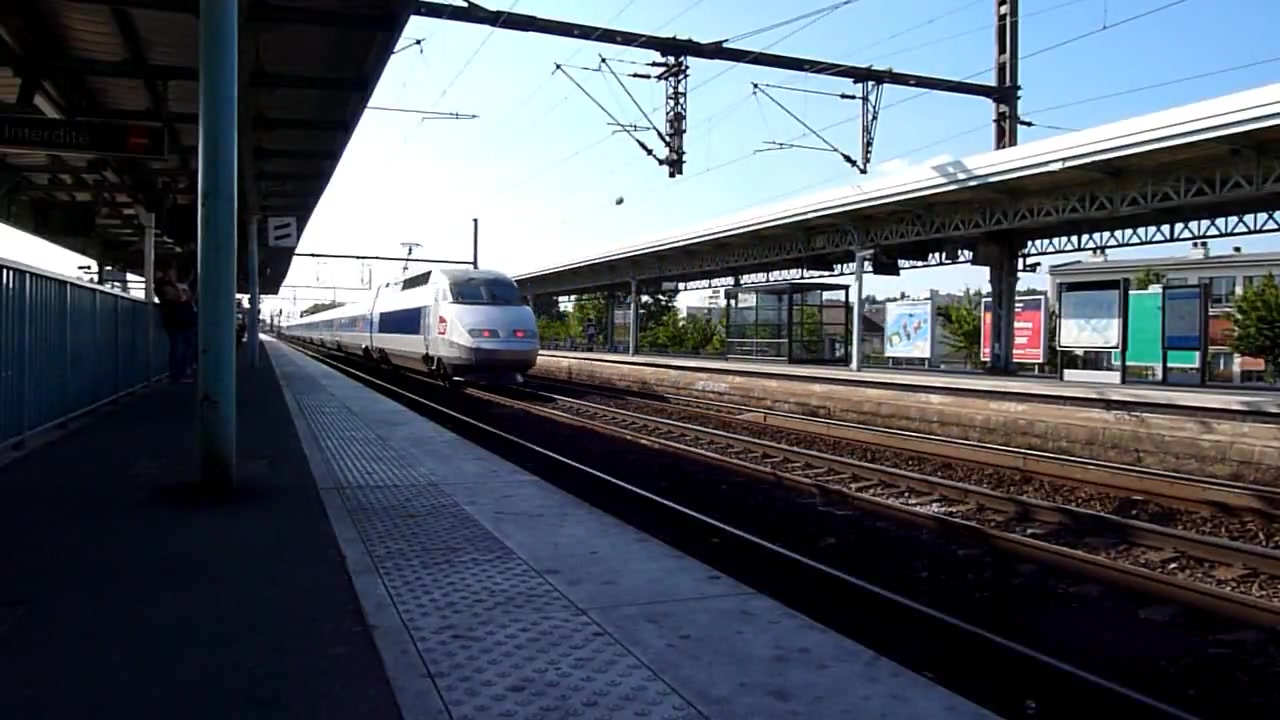train: (280, 263, 544, 389)
